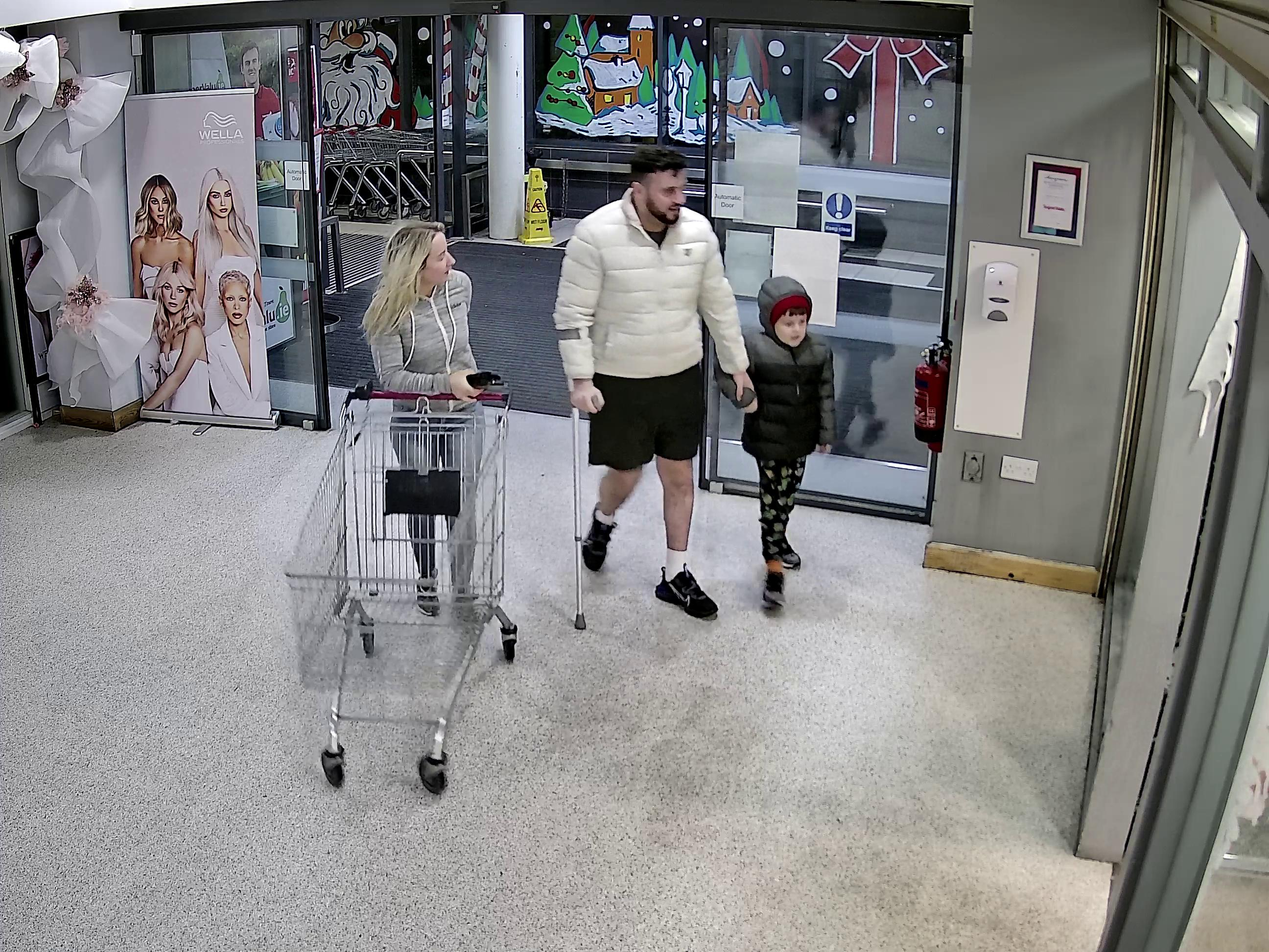empty-trolly: (287, 379, 518, 794)
person: (363, 224, 487, 618)
person-with-empty-basket-trolly: (287, 221, 519, 798)
